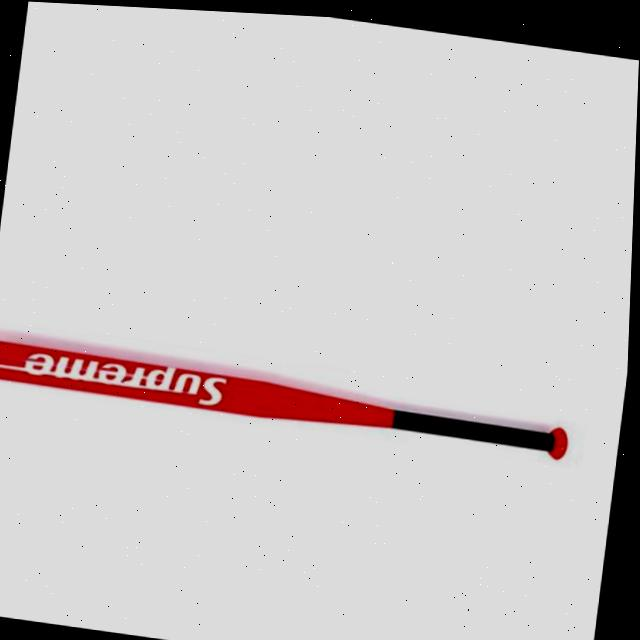baseball bat: (0, 295, 613, 503)
